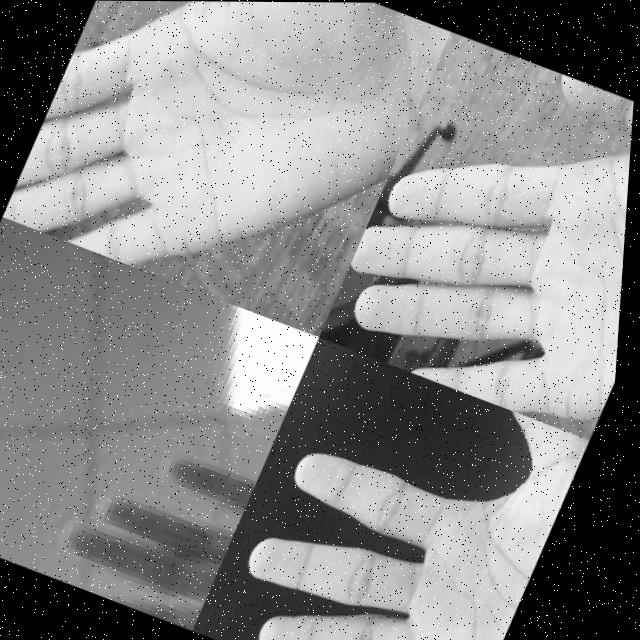hand: (318, 30, 639, 439), (217, 341, 601, 640), (48, 414, 270, 631)
